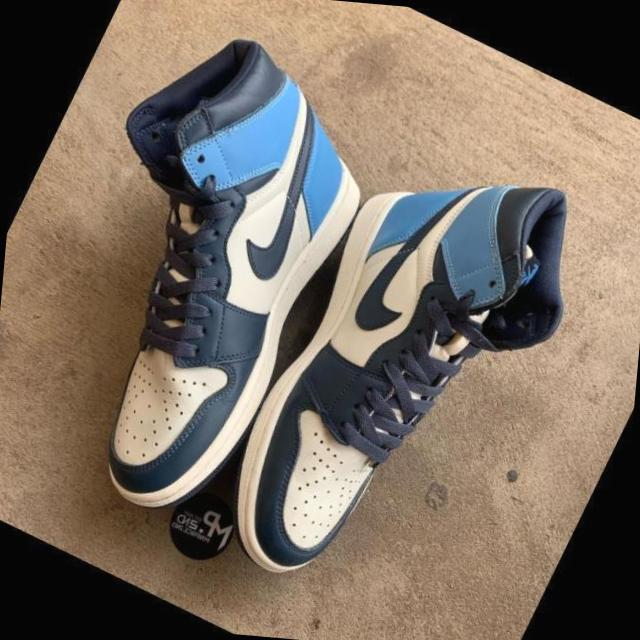nike_original_jordan: (182, 95, 616, 640), (0, 0, 414, 555)
